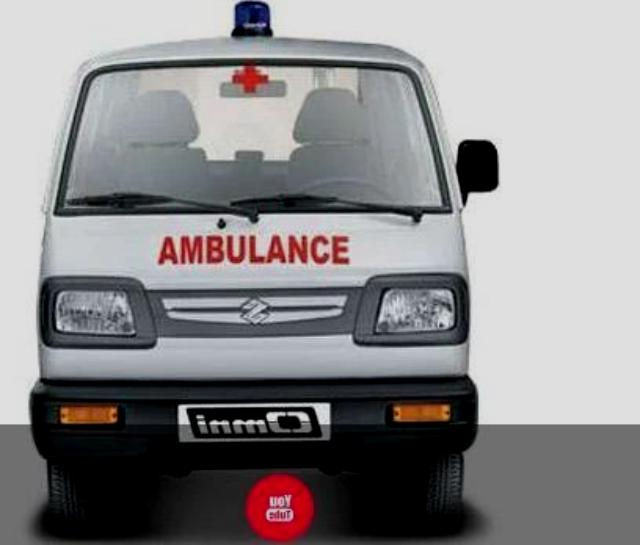ambulance: (11, 0, 505, 517)
